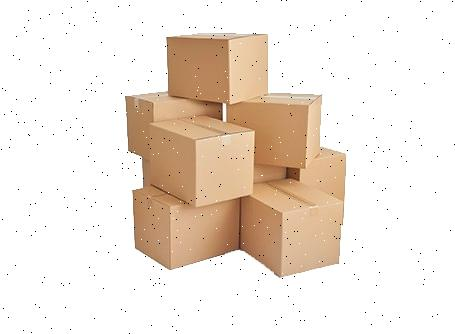Box: (241, 179, 342, 276), (150, 116, 254, 207), (133, 186, 239, 269), (167, 33, 267, 104), (228, 93, 321, 168), (127, 92, 221, 159), (286, 148, 346, 223)
